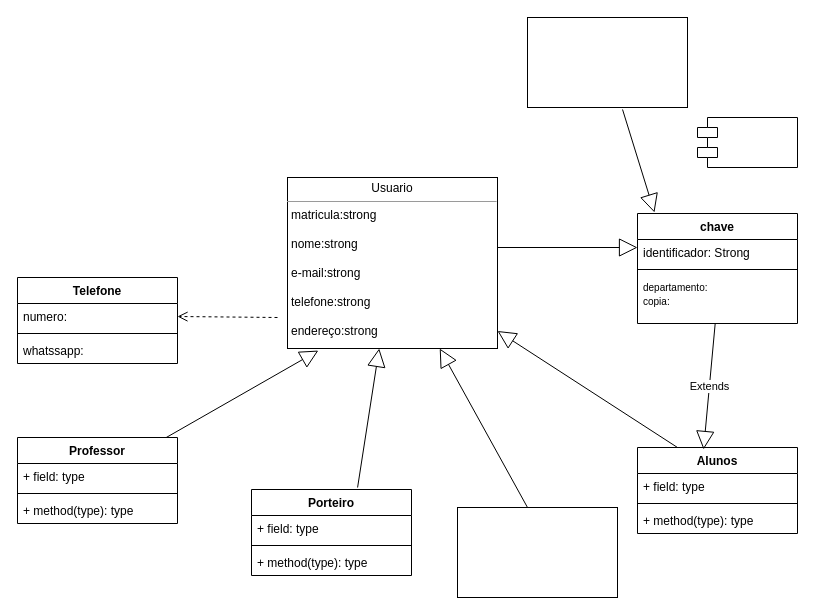
This 815x615 diagram has some shape labels left out. The centre of each missing label's shape, as x and y in pixels:
Colaboradores field1 = value1 field2 = value2 field3 = value3: pixel 537 552
Departamento Nome:Strong Bloco:Strong field3 = value3: pixel 607 62
kemellyamorim: pixel 747 142
